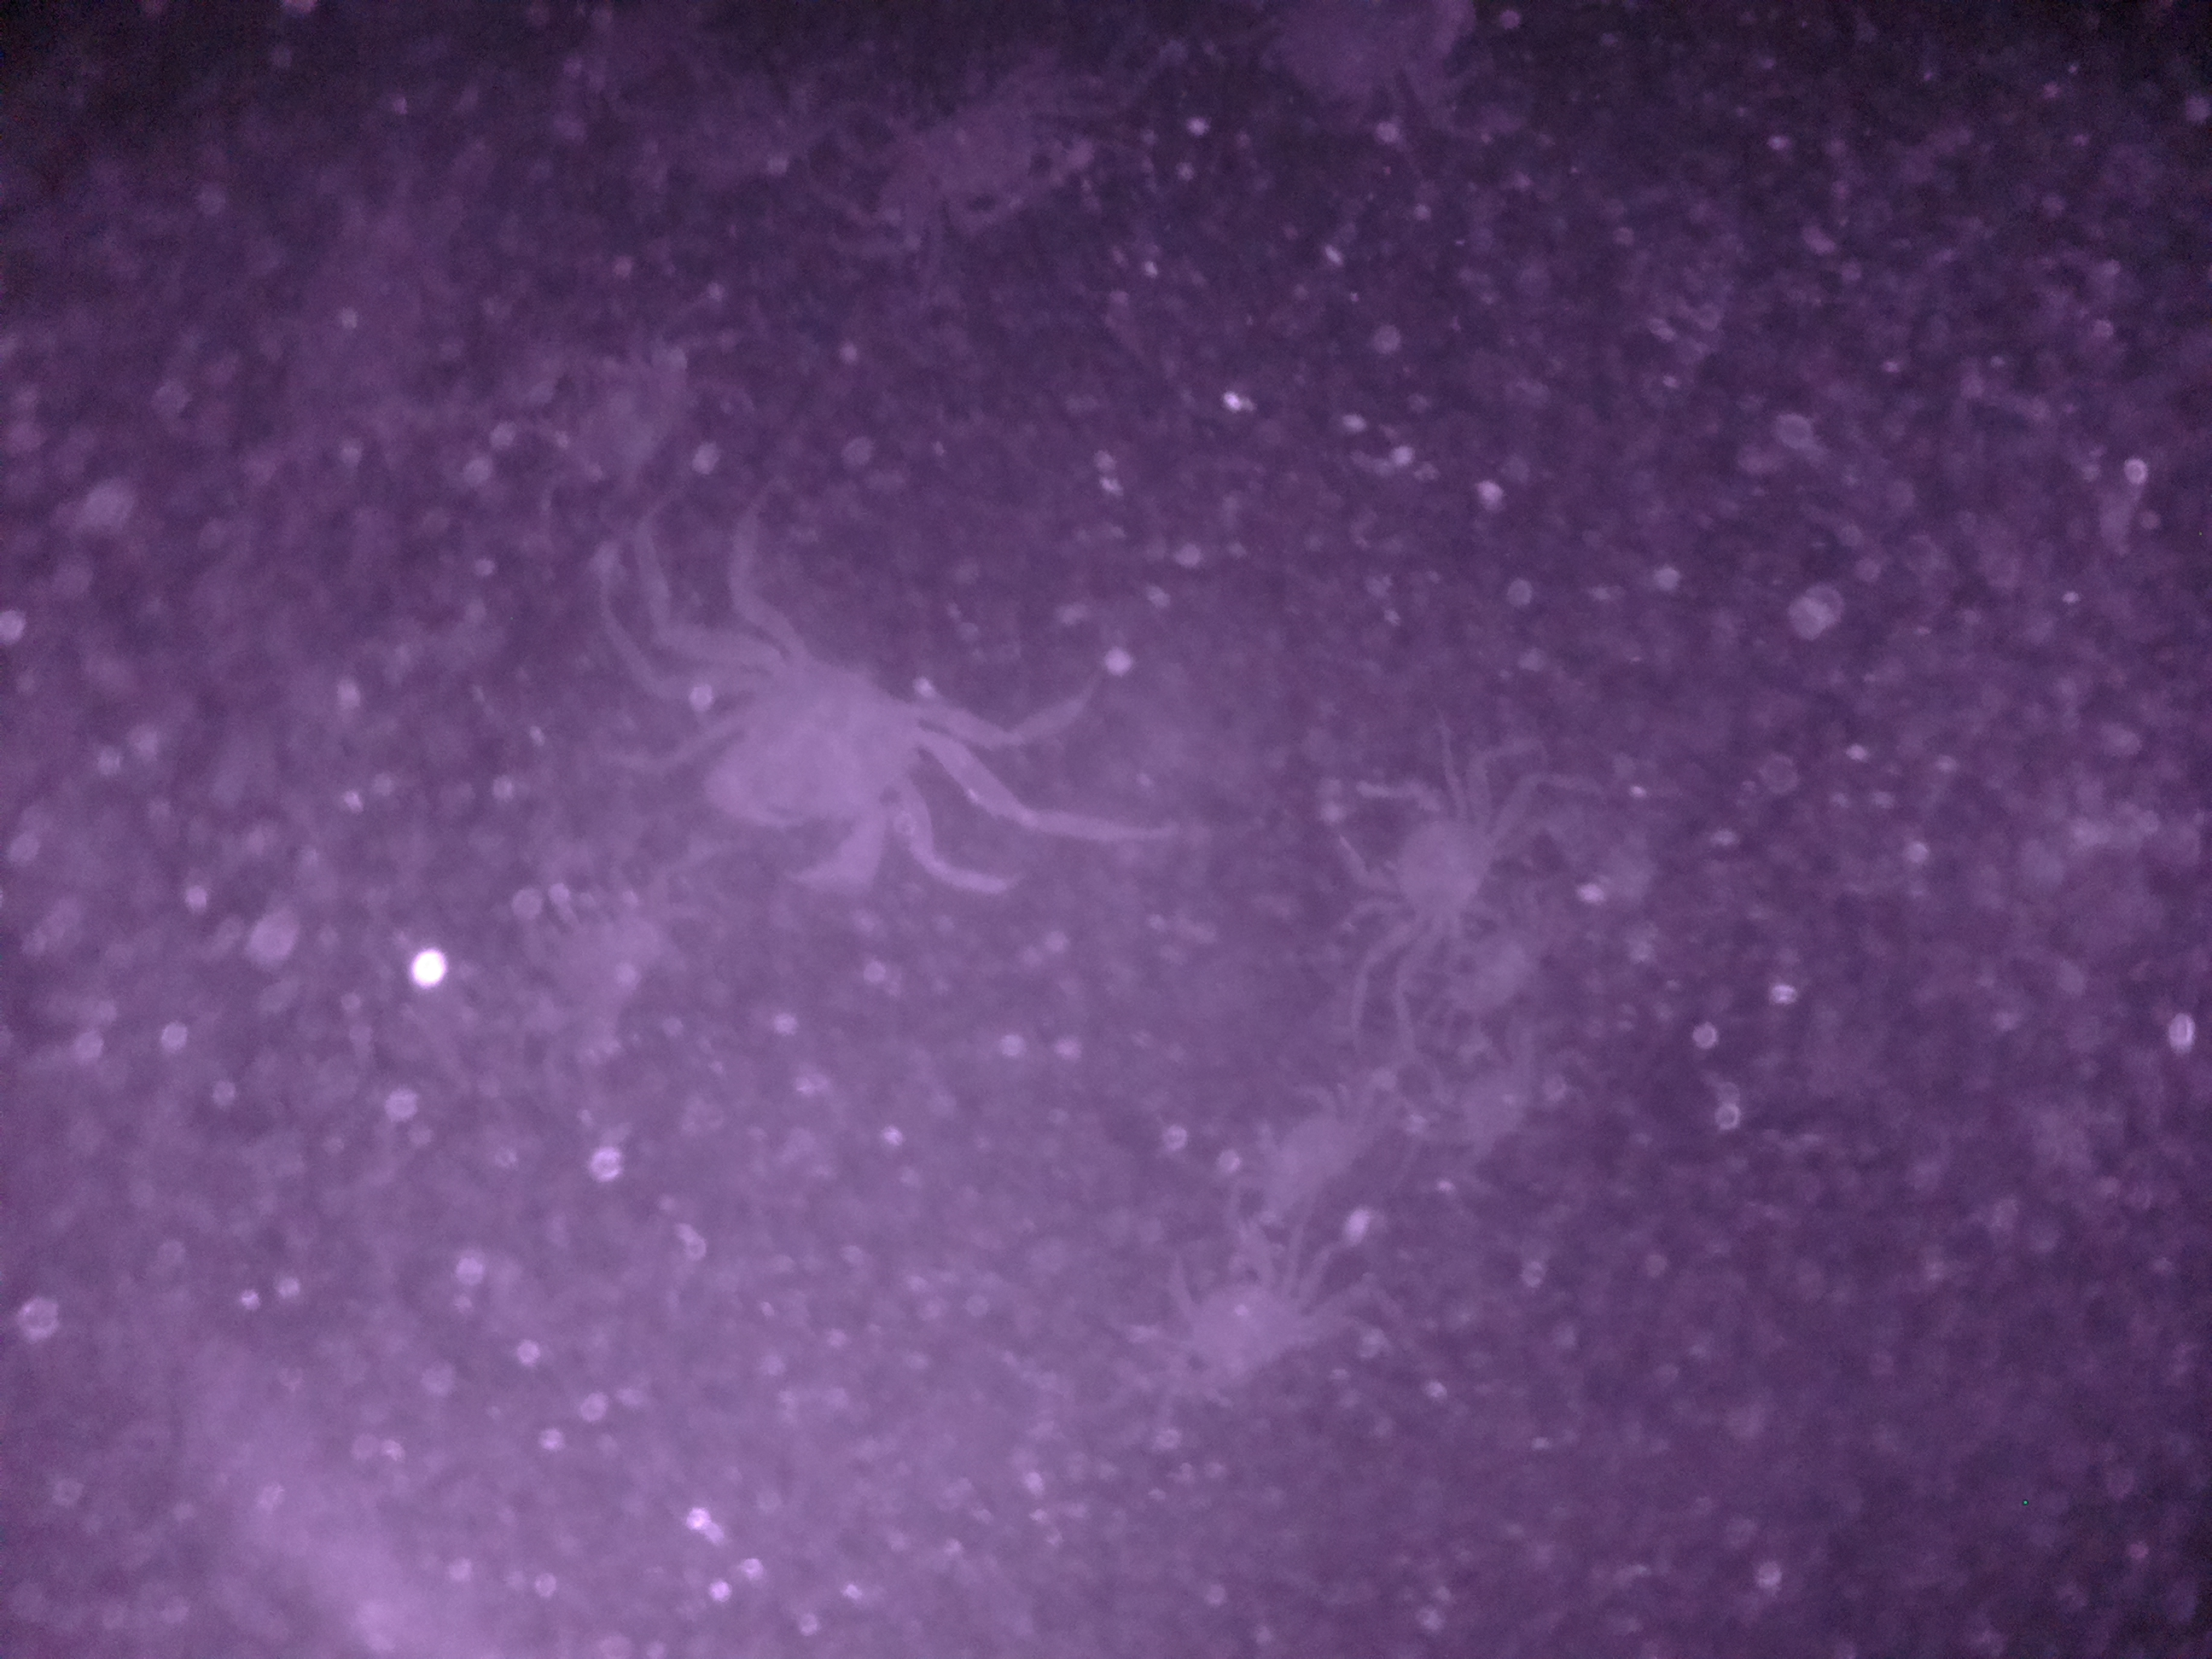Crab: (1315, 749, 1522, 1007)
